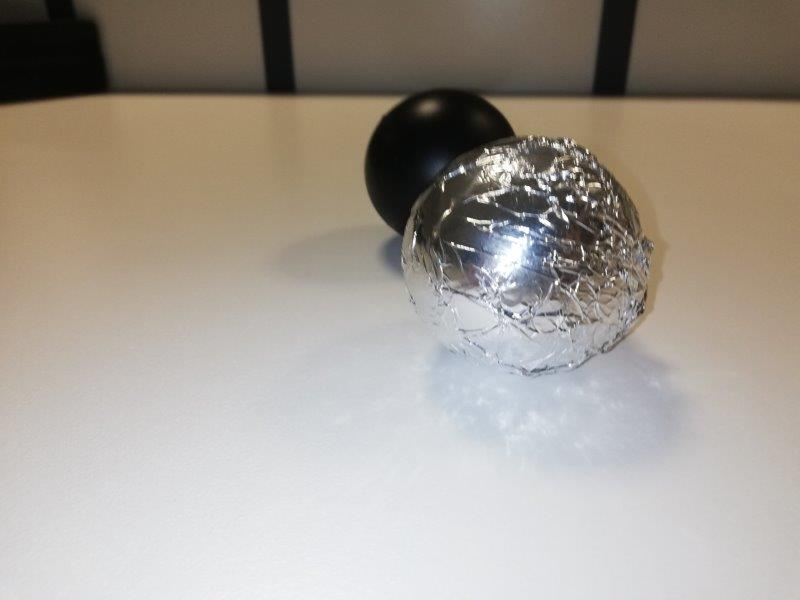bianca: (404, 131, 649, 380)
nera: (360, 82, 516, 236)
